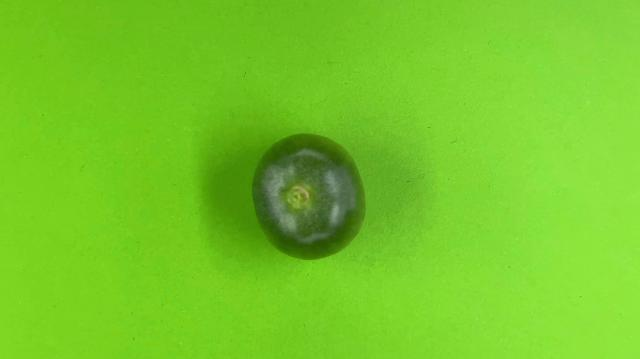Fruit Maturation: (250, 132, 367, 262)
